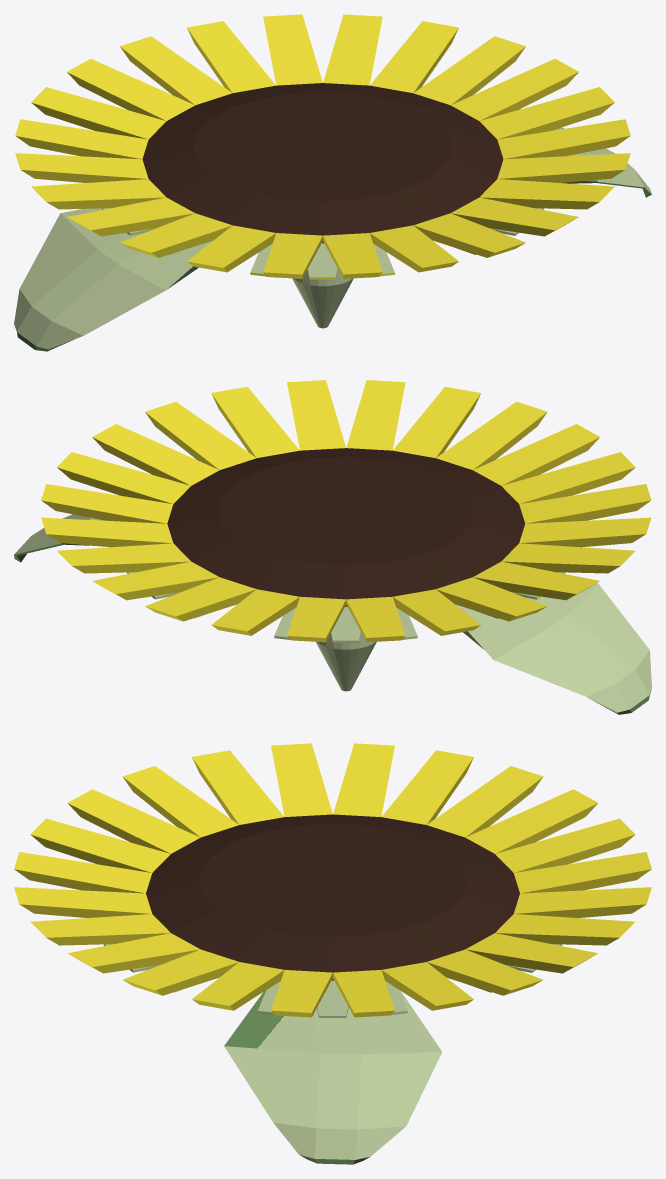
The model's file is flowertop-01.fbx.
3 views of the same model, one above another, from view 1: azimuth 30°, elevation 25°; view 2: azimuth 150°, elevation 25°; view 3: azimuth 270°, elevation 25° (orthographic). The views are drawn at different scales.
Parts seen in each view (by area): view 1: Flowertop-01; view 2: Flowertop-01; view 3: Flowertop-01.
Boxes of the visible parts, x1,y1,x2,y2 form: Flowertop-01: (14,14,651,351); Flowertop-01: (14,380,651,714); Flowertop-01: (14,743,651,1164).
Bounding box in the file's own units: 52.46 × 14.75 × 45.32.
Materials: 1 (1 with a texture image).
